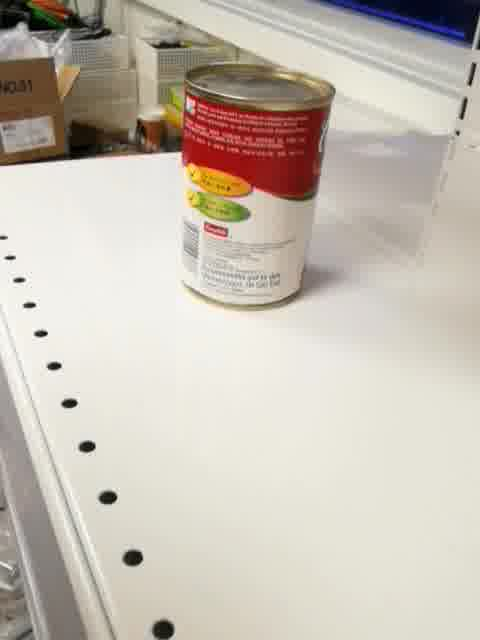tomatosoup: (176, 60, 340, 312)
